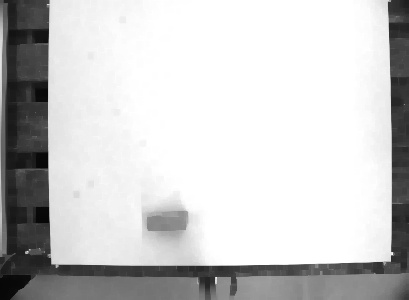b1: (145, 209, 190, 232)
